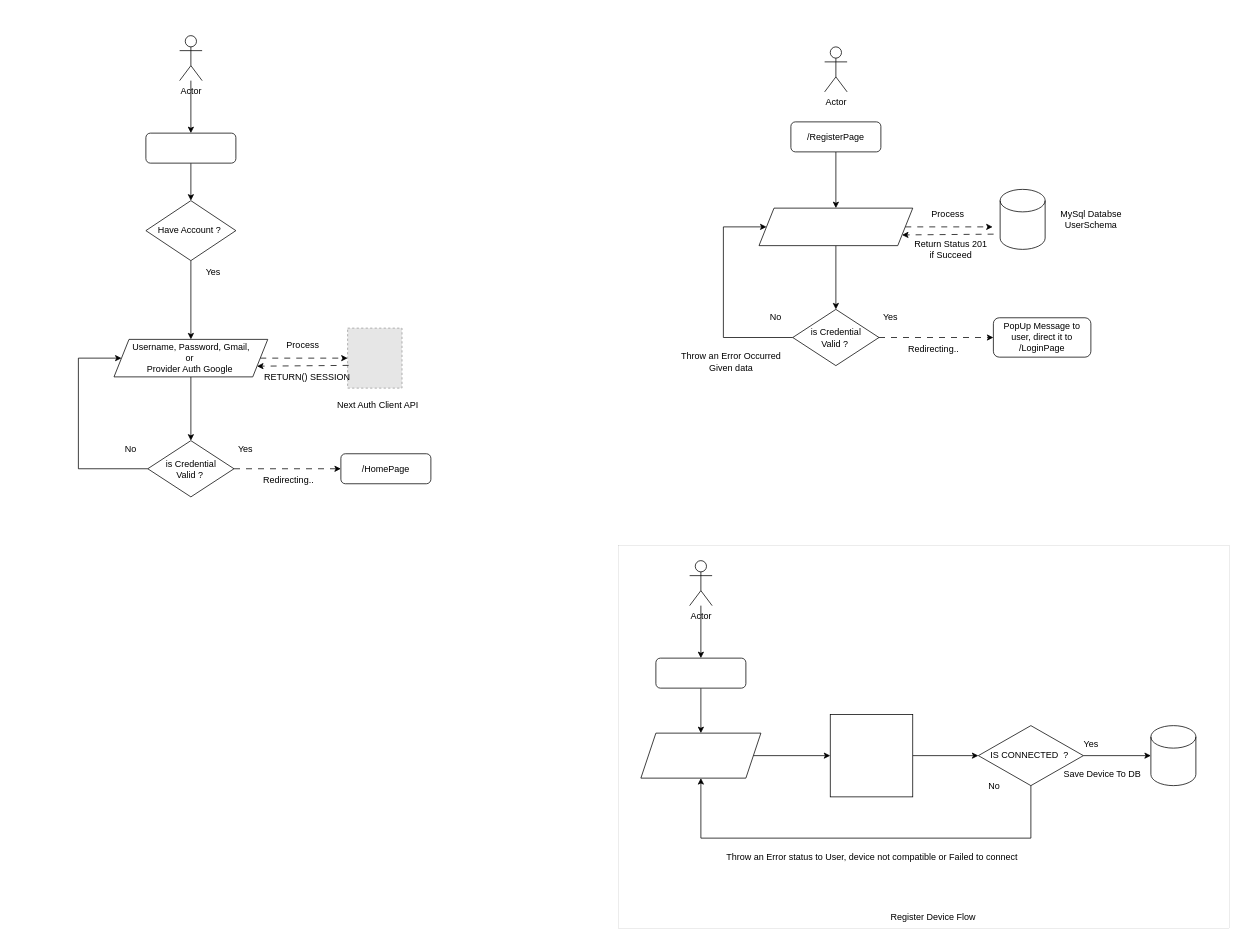
This 1243x941 diagram has some shape labels left out. Grey dashed boxes stand in for pictures. Each missing label, with the centre of its shape:
"/LoginPage" belongs at point (190, 147).
"Register Device Serial Port, COM3, Ethernet" belongs at point (700, 755).
"Start" belongs at point (700, 672).
"UserName, FirstName, LastName, Email, Phone, Jobs, Usage, ..." belongs at point (835, 226).
"Validation and Check Status device on The Server" belongs at point (871, 755).
